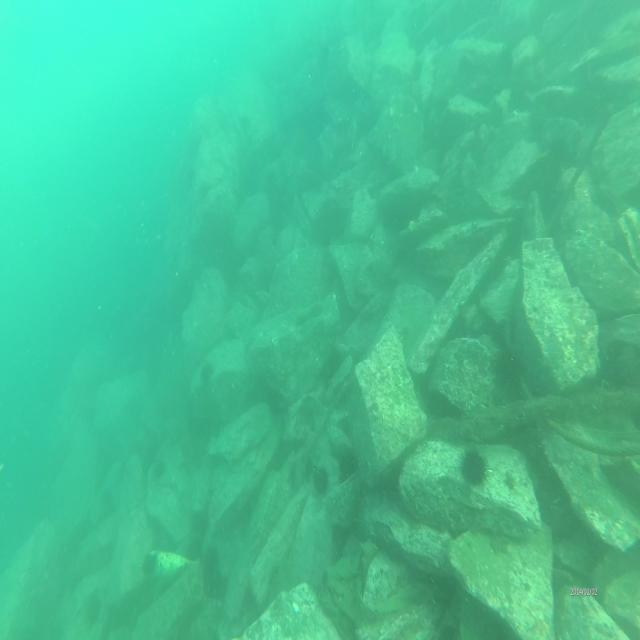echinus: (457, 440, 495, 494), (310, 460, 333, 500)
